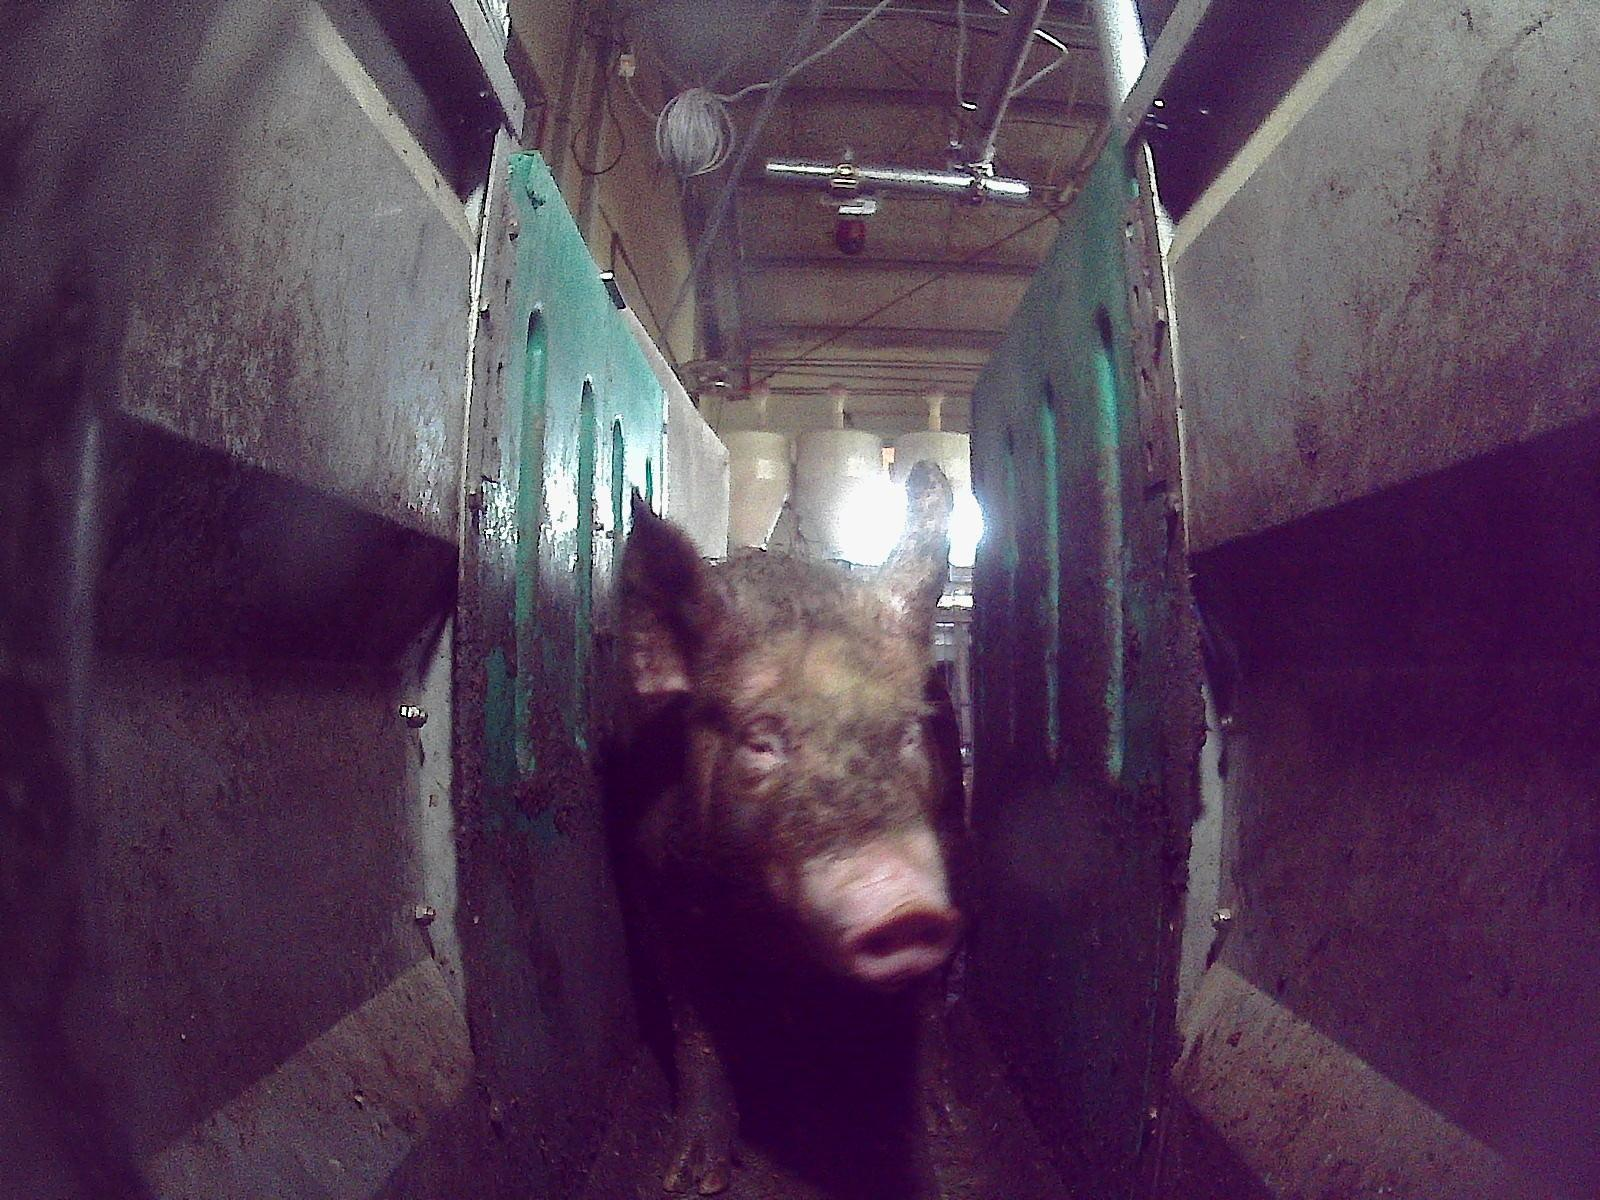Face: (646, 592, 960, 985)
